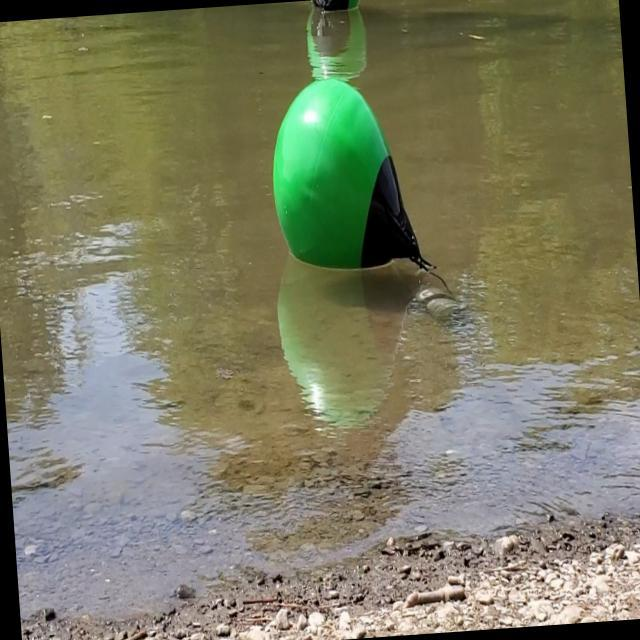buoy: (266, 70, 421, 282), (307, 0, 362, 16)
